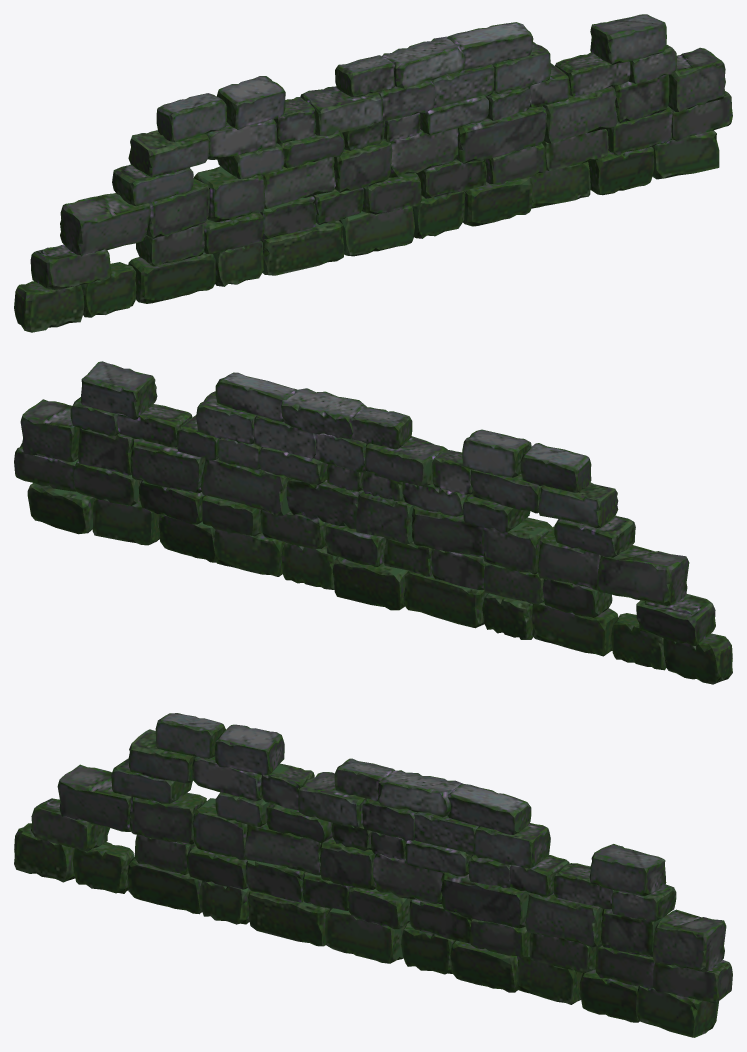
The model's file is StoneFence3.fbx.
3 renders of one model, top to bottom at view 1: azimuth 30°, elevation 25°; view 2: azimuth 150°, elevation 25°; view 3: azimuth 330°, elevation 25°, orthographic.
Visible parts, largest first — view 1: StoneFence3_LOD0; view 2: StoneFence3_LOD0; view 3: StoneFence3_LOD0.
Part boxes in pixels (x1=…): StoneFence3_LOD0: x1=14, y1=14, x2=732, y2=332; StoneFence3_LOD0: x1=14, y1=361, x2=732, y2=684; StoneFence3_LOD0: x1=14, y1=713, x2=732, y2=1037.
Size of what is drawn, in the model's own units: 3.31 by 0.2166 by 0.8451.
